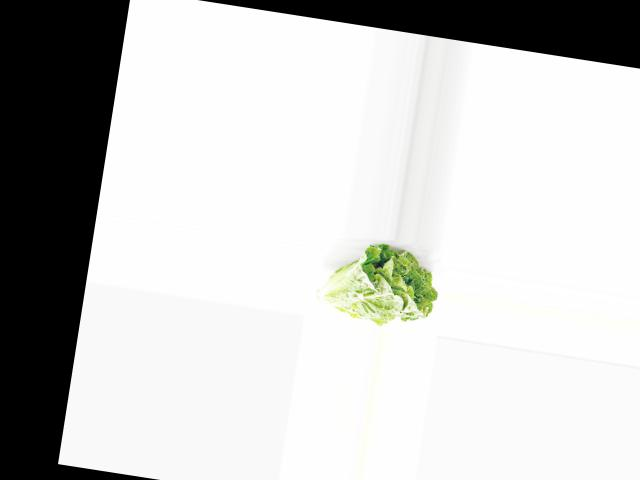lettuce: (315, 233, 443, 334)
